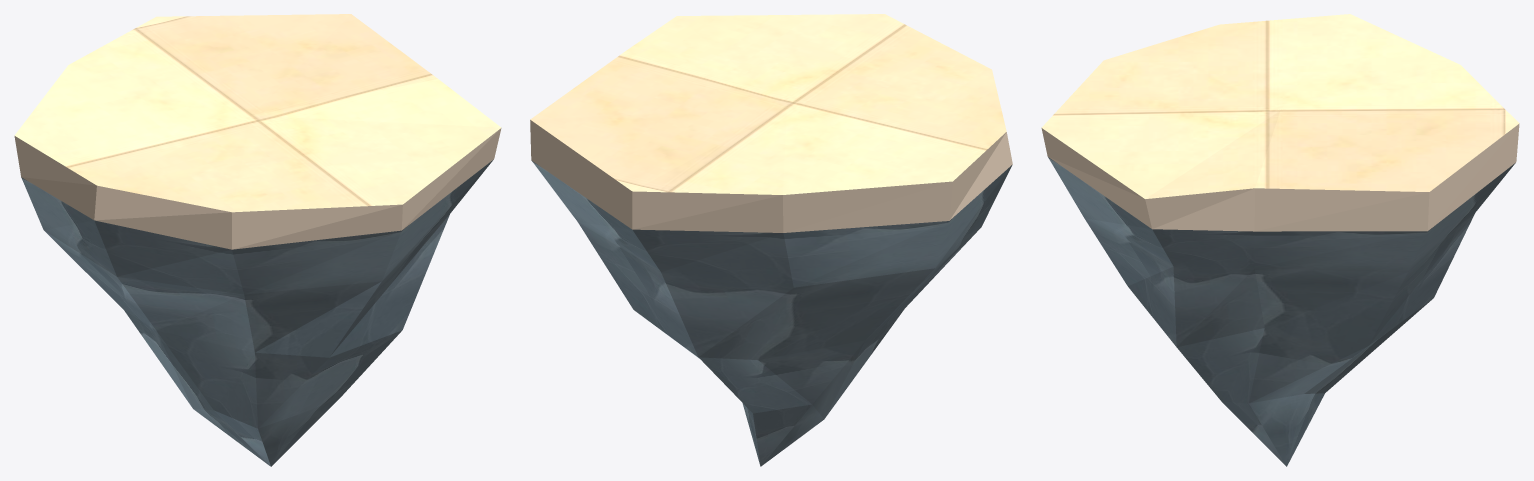
The model's file is sky_debris_c.glb.
3 views of the same model, side by side, from view 1: azimuth 30°, elevation 25°; view 2: azimuth 150°, elevation 25°; view 3: azimuth 270°, elevation 25° (orthographic). The views are drawn at different scales.
Visible parts, largest first — view 1: debris; view 2: debris; view 3: debris.
Boxes of the visible parts, x1,y1,x2,y2 form: debris: [14, 14, 501, 466]; debris: [530, 14, 1012, 466]; debris: [1041, 14, 1519, 466].
Bounding box in the file's own units: 1.78 × 1.62 × 2.01.
3 materials, 2 textured.
